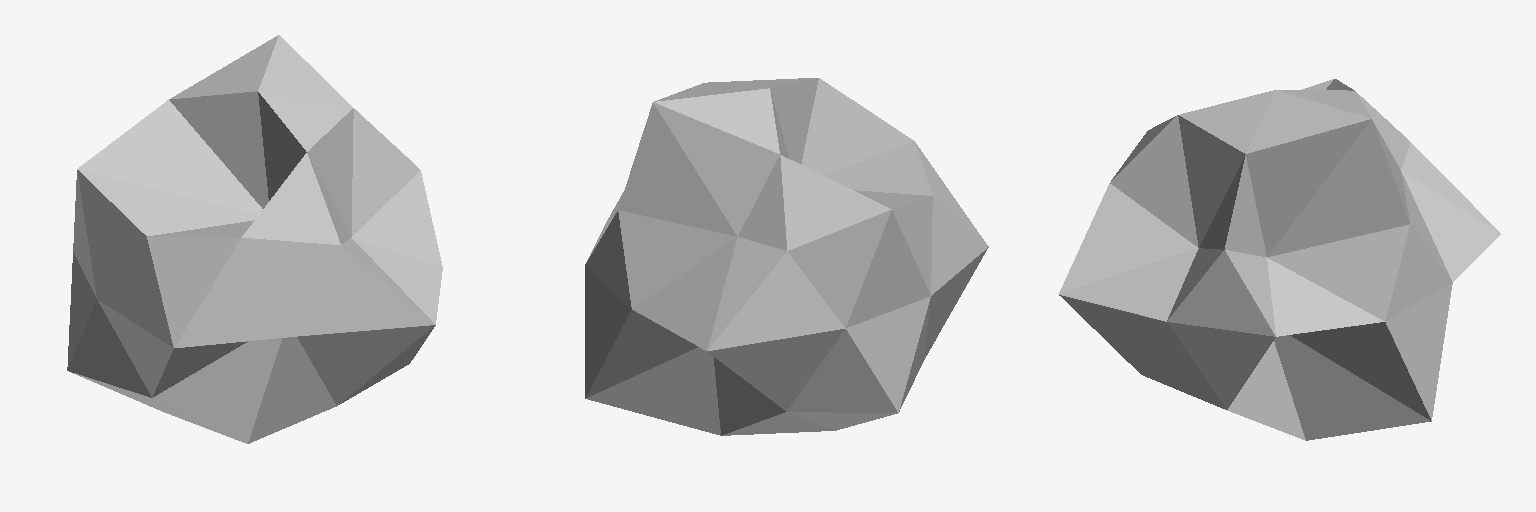
The model's file is tempBullet.obj.
The picture shows the model from 3 angles: view 1: azimuth 30°, elevation 25°; view 2: azimuth 150°, elevation 25°; view 3: azimuth 270°, elevation 25°; orthographic projection.
Visible parts, largest first — view 1: Icosphere; view 2: Icosphere; view 3: Icosphere.
Boxes of the visible parts, box(x1,y1,x2,y2) form: Icosphere: box(67, 35, 442, 443); Icosphere: box(585, 78, 988, 435); Icosphere: box(1058, 79, 1500, 440).
Bounding box in the file's own units: 0.9561 × 0.9689 × 1.14.